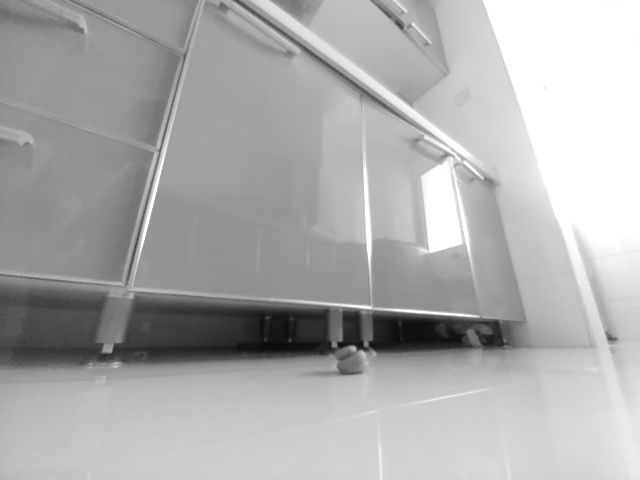pet feces: (332, 345, 377, 376)
